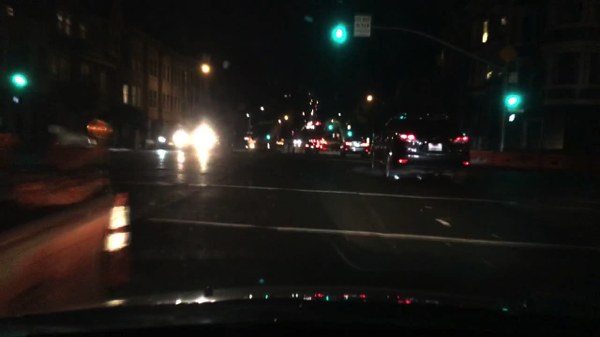car: (1, 117, 131, 305), (366, 111, 469, 184), (174, 122, 220, 149), (339, 132, 371, 157), (226, 135, 252, 151), (156, 128, 176, 147), (310, 137, 325, 150), (290, 139, 302, 152), (302, 142, 316, 151), (305, 121, 316, 130), (321, 138, 329, 144)
traffic light: (505, 92, 522, 115), (11, 72, 30, 89), (333, 21, 346, 45), (328, 124, 335, 131), (346, 130, 353, 137), (265, 134, 271, 140)
traffic sign: (353, 17, 371, 38), (499, 45, 519, 63), (507, 71, 518, 84), (245, 130, 252, 135)
